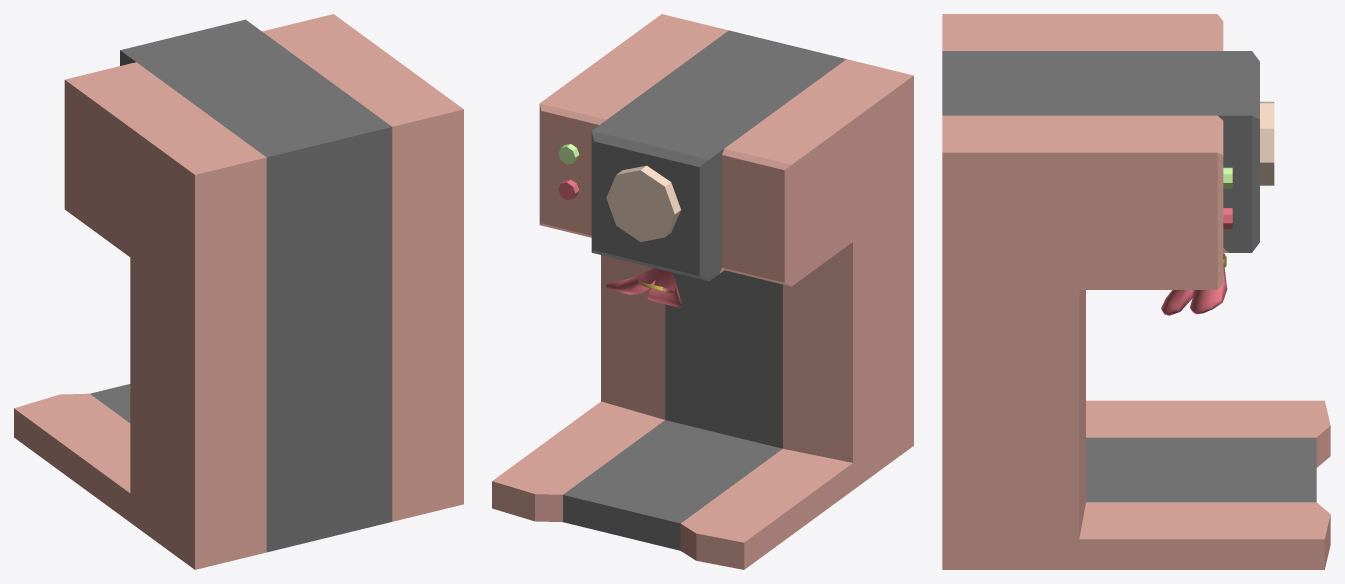
File: NectarDispenser.fbx
The picture shows the model from 3 angles, left to right: view 1: azimuth 30°, elevation 25°; view 2: azimuth 150°, elevation 25°; view 3: azimuth 270°, elevation 25°; orthographic projection. The views are drawn at different scales.
Visible parts, largest first — view 1: Cylinder.002; view 2: Cylinder.002; view 3: Cylinder.002.
Boxes of the visible parts, left/top/right/bottom form: Cylinder.002: left=14, top=14, right=463, bottom=569; Cylinder.002: left=492, top=14, right=913, bottom=569; Cylinder.002: left=942, top=14, right=1330, bottom=569.
Size of the model in its own units: 114 by 160 by 135.
